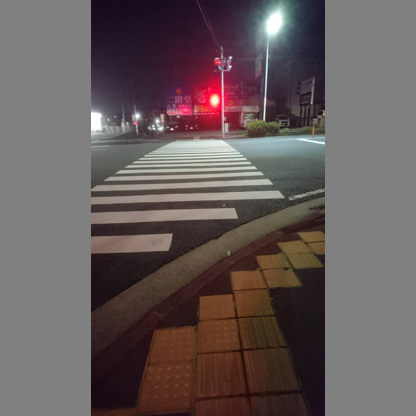brailleblock: (136, 361, 198, 414), (194, 351, 248, 398), (241, 348, 288, 393), (147, 325, 197, 365), (195, 316, 241, 352), (237, 316, 276, 351), (249, 392, 305, 416), (194, 391, 250, 414), (233, 288, 267, 318), (198, 294, 235, 321), (261, 265, 300, 287), (230, 270, 268, 292), (257, 254, 293, 270), (301, 231, 325, 255), (280, 240, 312, 254), (288, 252, 314, 269)
crosswalk: (90, 180, 179, 257), (115, 167, 287, 204), (133, 159, 261, 205), (147, 150, 248, 177)
signal: (206, 92, 221, 109)
